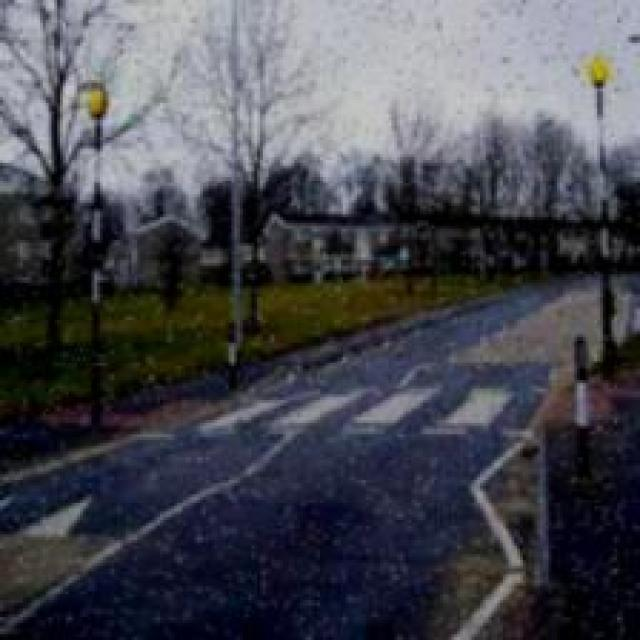crosswalk: (164, 387, 525, 434)
